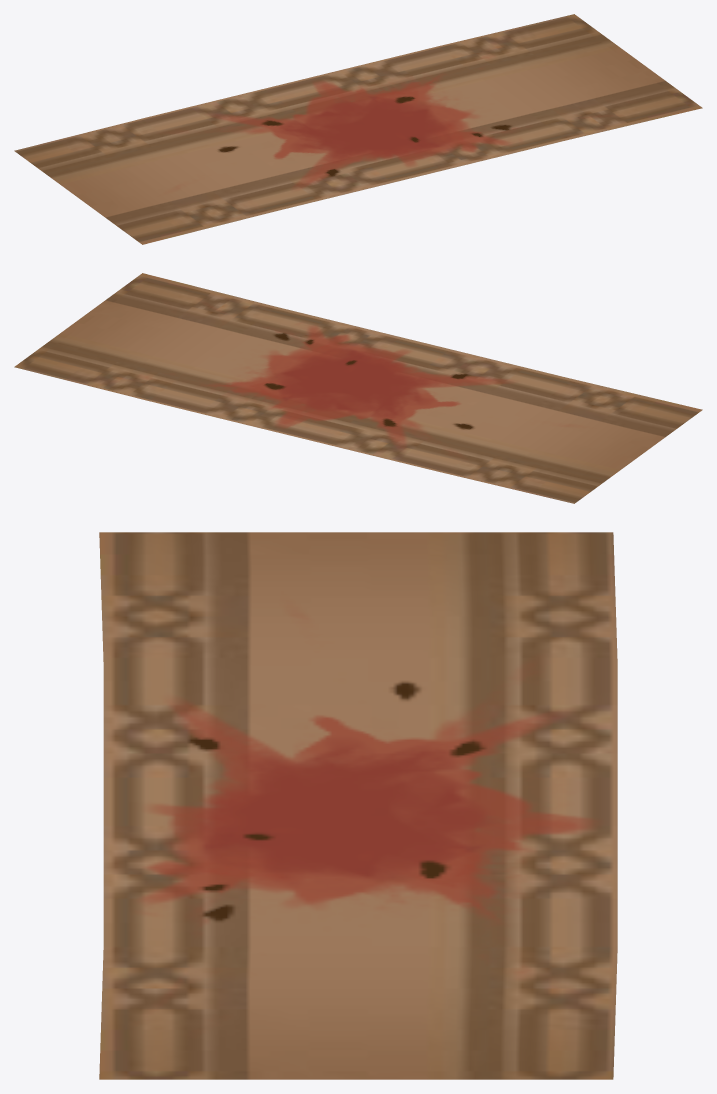
The model's file is Napkin_02.glb.
3 views of the same model, one above another, from view 1: azimuth 30°, elevation 25°; view 2: azimuth 150°, elevation 25°; view 3: azimuth 270°, elevation 25° (orthographic). The views are drawn at different scales.
Parts seen in each view (by area): view 1: Napkin_02; view 2: Napkin_02; view 3: Napkin_02.
Boxes of the visible parts, left/top/right/bottom form: Napkin_02: left=14, top=14, right=702, bottom=244; Napkin_02: left=14, top=273, right=702, bottom=503; Napkin_02: left=99, top=532, right=617, bottom=1079.
Size of the model in its own units: 2.57 by 2.38e-07 by 1.03.
Materials: 1 (1 with a texture image).
